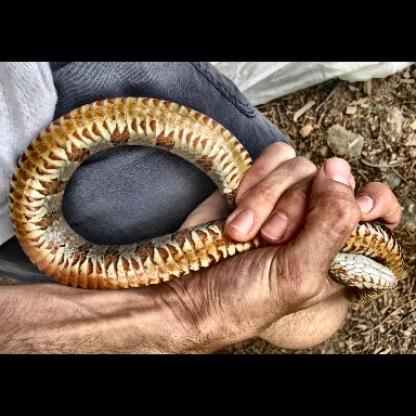Snake: (7, 92, 414, 299)
